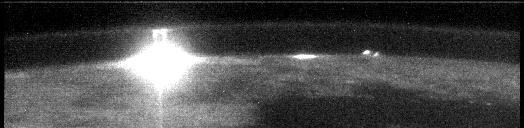positive: (146, 27, 174, 42)
